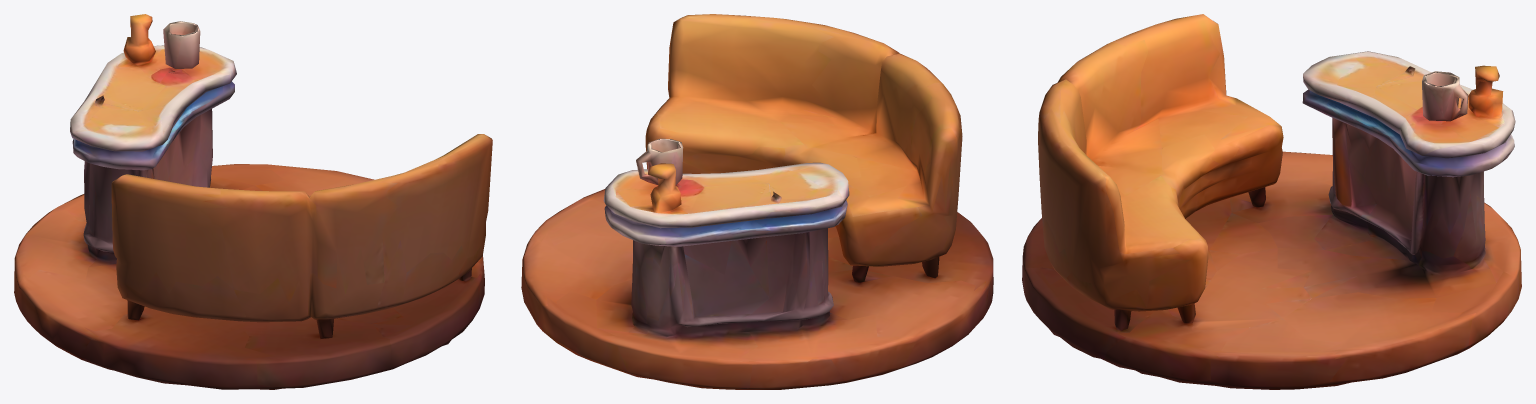
Rendered from talk-show.glb.
3 views of the same model, side by side, from view 1: azimuth 30°, elevation 25°; view 2: azimuth 150°, elevation 25°; view 3: azimuth 270°, elevation 25° (orthographic). The views are drawn at different scales.
Parts seen in each view (by area): view 1: tripo_node_c577c886-d14f-4612-b6e7-06781e6e494b; view 2: tripo_node_c577c886-d14f-4612-b6e7-06781e6e494b; view 3: tripo_node_c577c886-d14f-4612-b6e7-06781e6e494b.
Boxes of the visible parts, x1,y1,x2,y2 form: tripo_node_c577c886-d14f-4612-b6e7-06781e6e494b: [14, 14, 492, 389]; tripo_node_c577c886-d14f-4612-b6e7-06781e6e494b: [521, 14, 993, 389]; tripo_node_c577c886-d14f-4612-b6e7-06781e6e494b: [1022, 14, 1521, 389].
Size of the model in its own units: 0.9981 by 0.4726 by 0.9996.
Materials: 1 (1 with a texture image).
